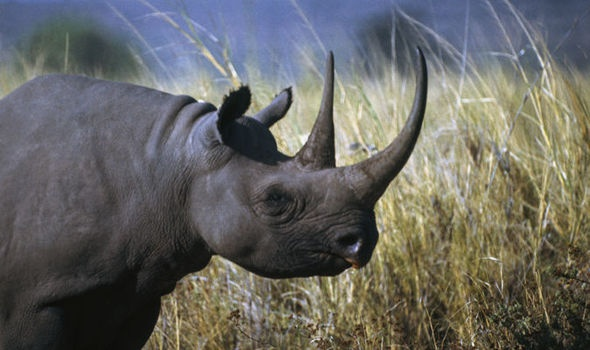rhino: (0, 43, 427, 350)
